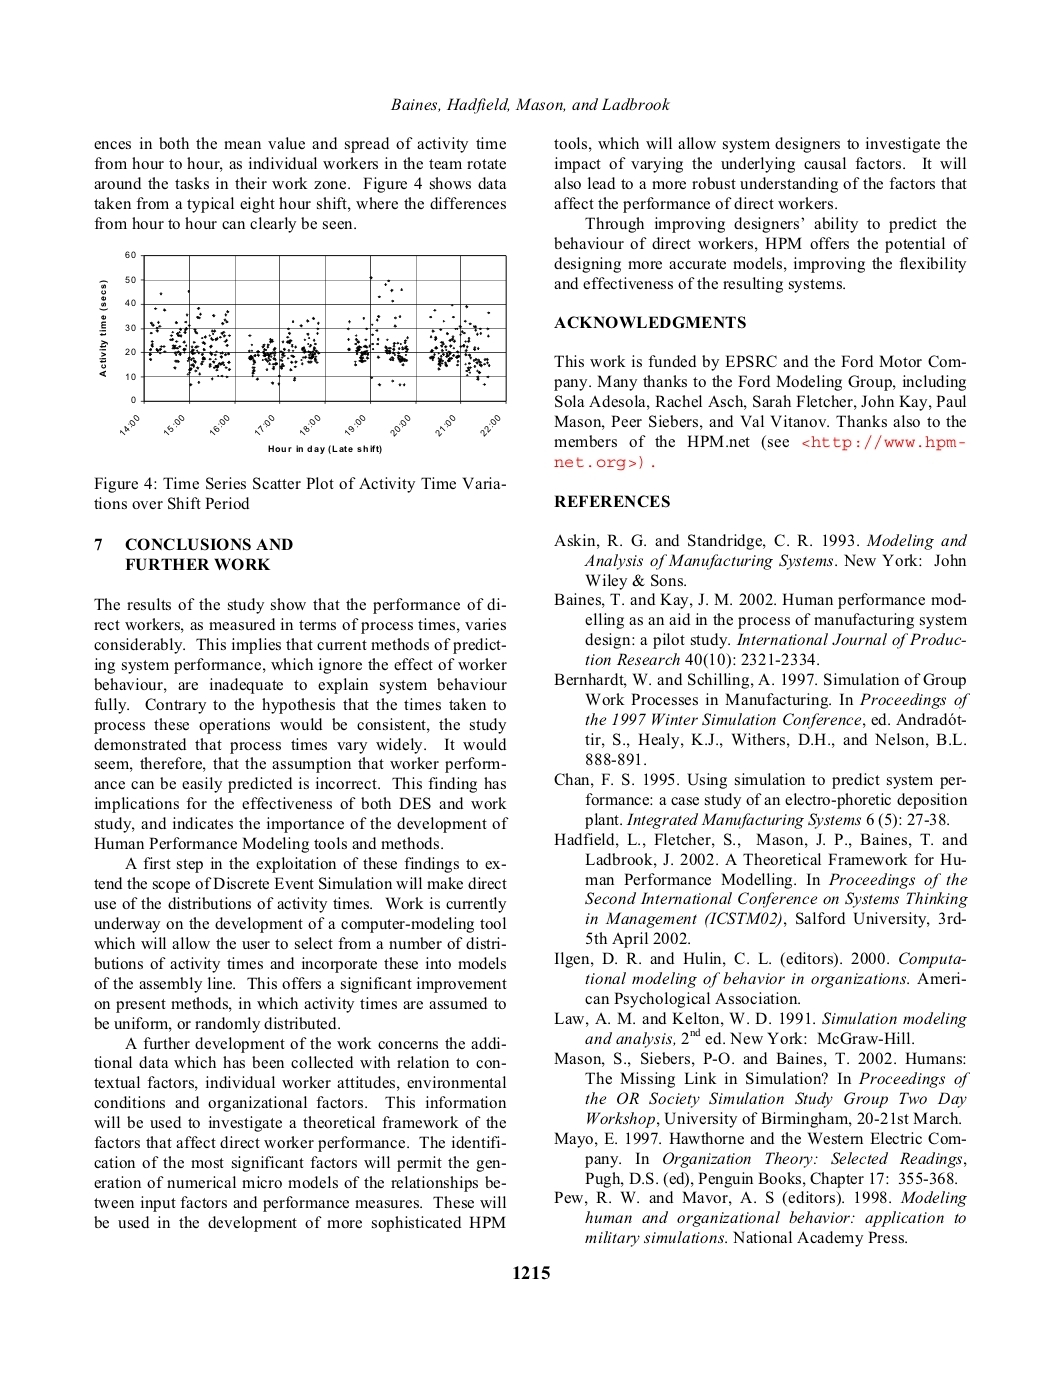figure: (99, 251, 506, 452)
